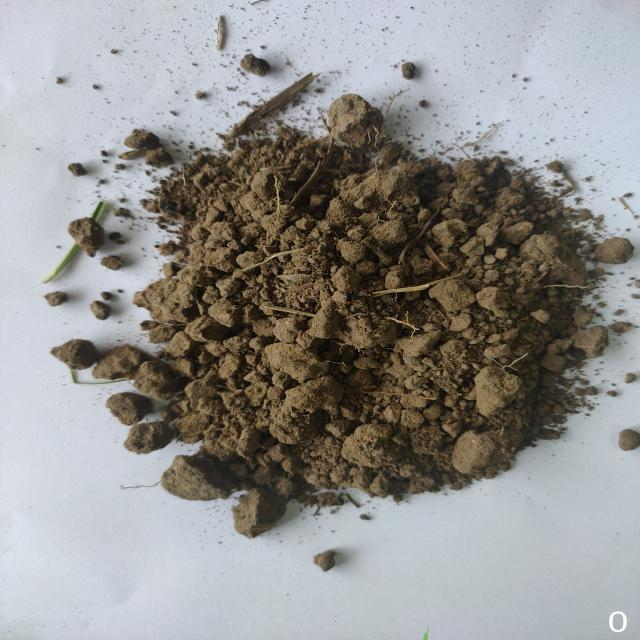soil: (208, 188, 492, 460)
